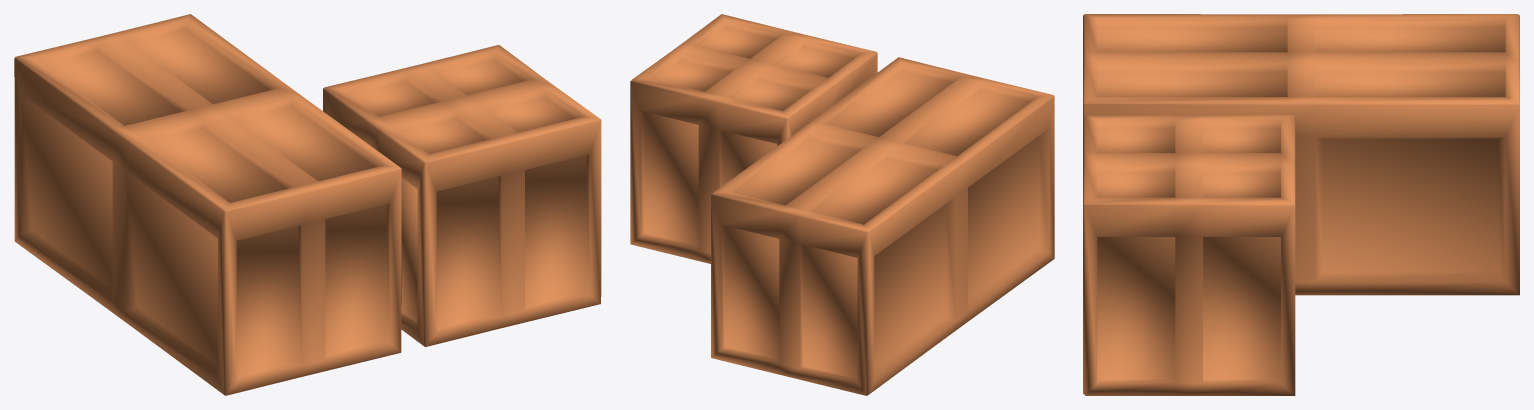
The model's file is boxes.obj.
The picture shows the model from 3 angles, left to right: view 1: azimuth 30°, elevation 25°; view 2: azimuth 150°, elevation 25°; view 3: azimuth 270°, elevation 25°; orthographic projection. The views are drawn at different scales.
Parts seen in each view (by area): view 1: Box003, Box002; view 2: Box003, Box002; view 3: Box003, Box002.
Boxes of the visible parts, x1,y1,x2,y2 form: Box003: [14, 14, 401, 395]; Box002: [323, 45, 601, 347]; Box003: [711, 57, 1054, 395]; Box002: [630, 14, 877, 263]; Box003: [1083, 14, 1519, 295]; Box002: [1083, 114, 1295, 395].
Bounding box in the file's own units: 191 × 90 × 185.
